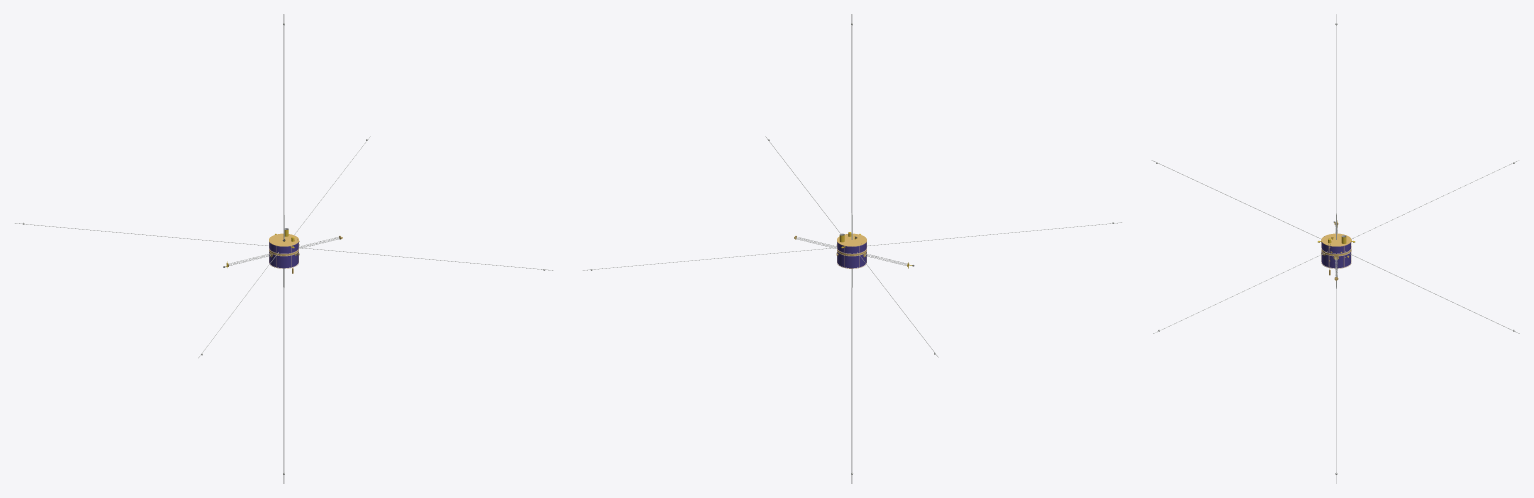
The model's file is wind.glb.
3 views of the same model, side by side, from view 1: azimuth 30°, elevation 25°; view 2: azimuth 150°, elevation 25°; view 3: azimuth 270°, elevation 25° (orthographic).
Parts seen in each view (by area): view 1: Layer_0; view 2: Layer_0; view 3: Layer_0.
Part boxes in pixels (left/top/right/bottom): Layer_0: left=14, top=14, right=553, bottom=483; Layer_0: left=582, top=14, right=1122, bottom=483; Layer_0: left=1151, top=14, right=1519, bottom=483.
Size of the model in its own units: 41.63 by 52.43 by 37.31.
4 materials, 4 textured.
